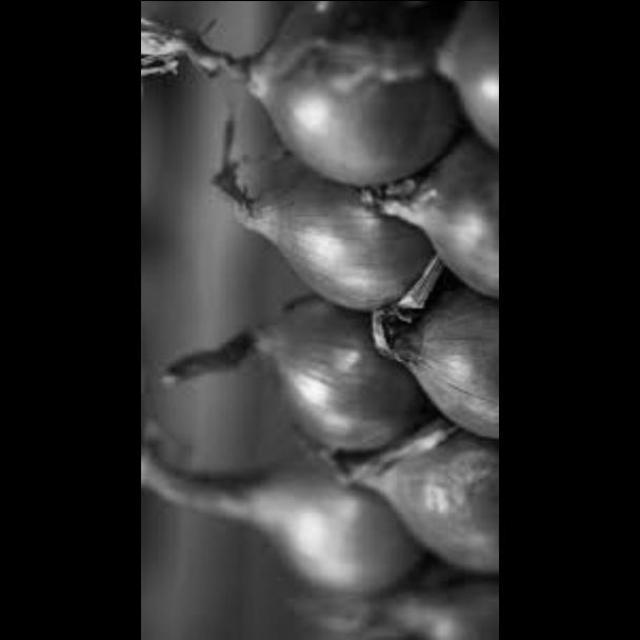onion: (214, 0, 452, 196), (216, 460, 443, 640), (224, 304, 450, 477), (226, 165, 456, 302), (334, 420, 498, 584), (366, 287, 497, 441), (372, 143, 497, 293), (403, 2, 498, 146)
